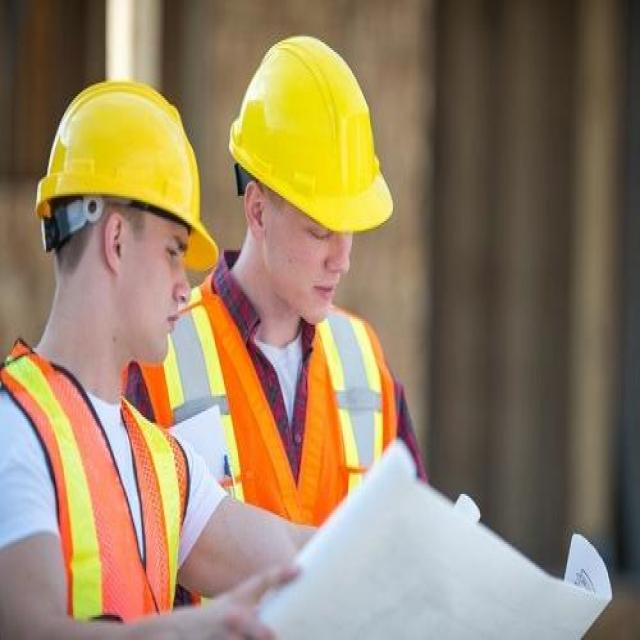Reflective-Jacket: (159, 286, 402, 534), (0, 348, 196, 636)
Safety-Helmet: (31, 73, 219, 265), (225, 31, 398, 238)
